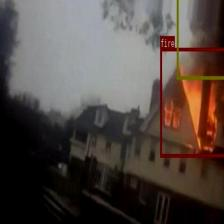fire: (159, 47, 224, 156)
smoke: (176, 0, 224, 79)
